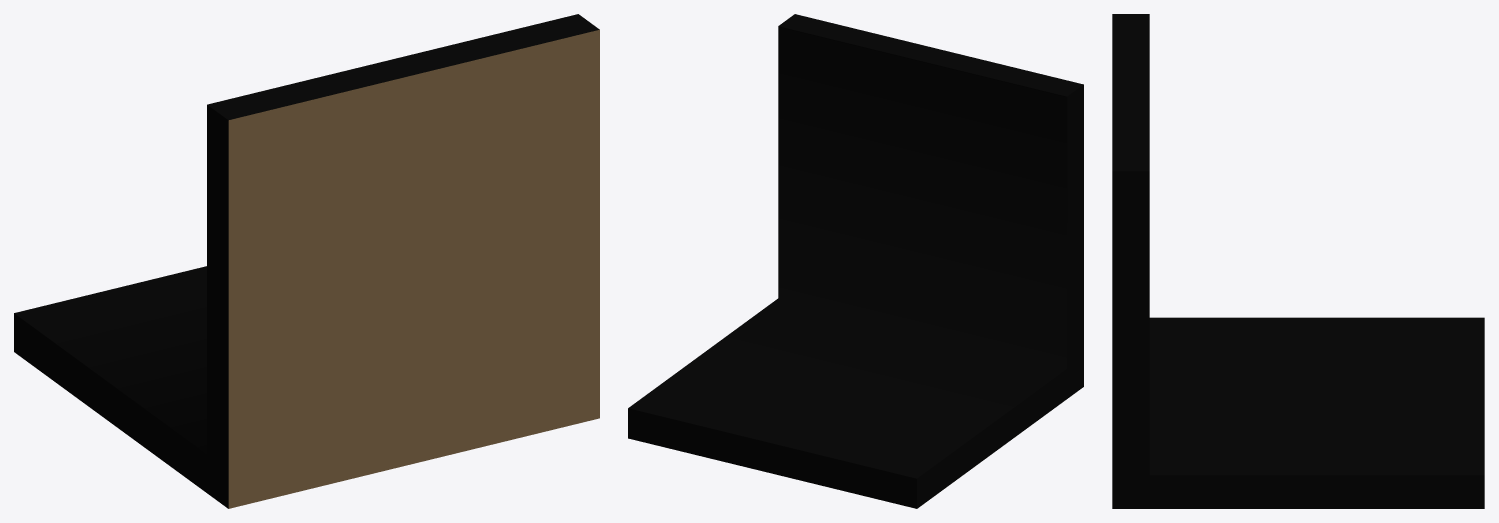
The model's file is M_Corner_Ext_2x2.fbx.
3 renders of one model, left to right at view 1: azimuth 30°, elevation 25°; view 2: azimuth 150°, elevation 25°; view 3: azimuth 270°, elevation 25°, orthographic. The views are drawn at different scales.
Parts seen in each view (by area): view 1: M_Corner_Ext_2x2; view 2: M_Corner_Ext_2x2; view 3: M_Corner_Ext_2x2.
Boxes of the visible parts, x1=… form: M_Corner_Ext_2x2: x1=14, y1=14, x2=599, y2=508; M_Corner_Ext_2x2: x1=628, y1=14, x2=1083, y2=508; M_Corner_Ext_2x2: x1=1112, y1=14, x2=1484, y2=508.
Bounding box in the file's own units: 200 × 200 × 200.
